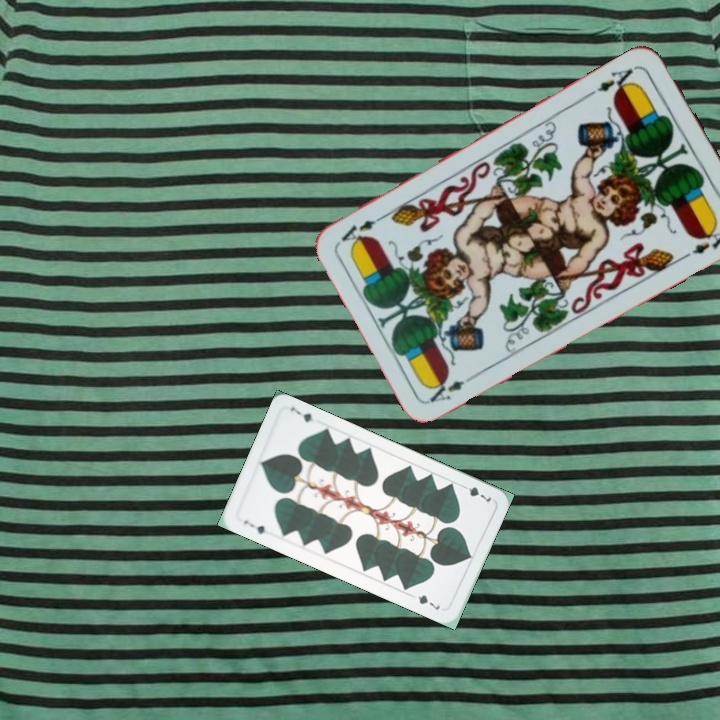EA: (425, 369, 480, 405), (586, 62, 639, 99)
G7: (456, 480, 494, 505), (240, 516, 273, 538)
